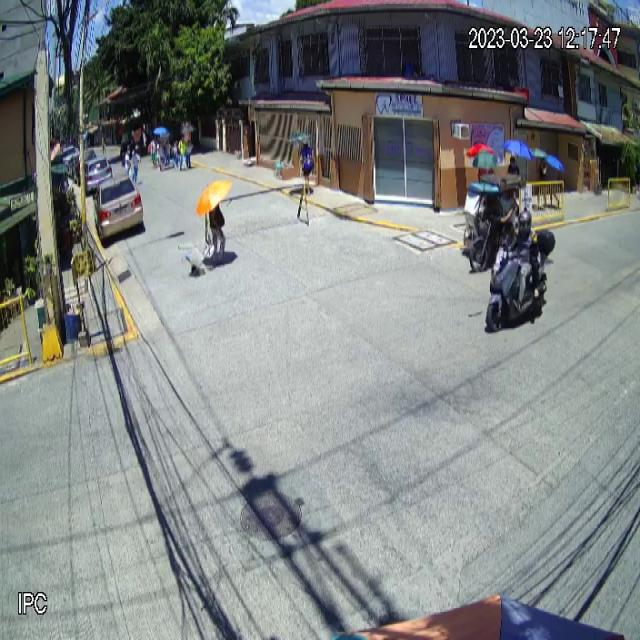Motorcycle: (485, 228, 557, 326)
Tricycle: (460, 172, 527, 278)
